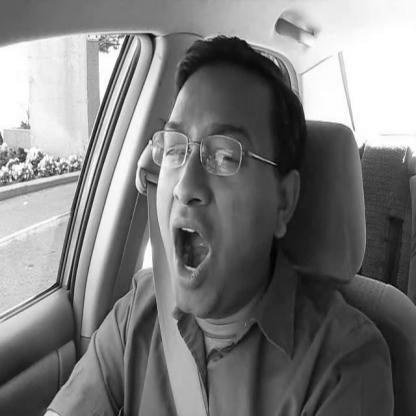seatbelt: (97, 0, 296, 416)
